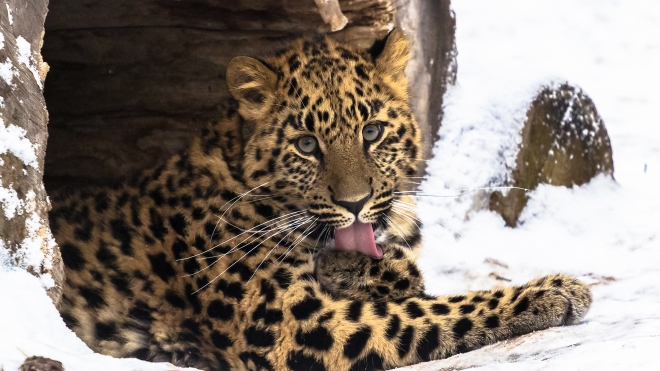amur_leopard: (76, 26, 591, 371)
